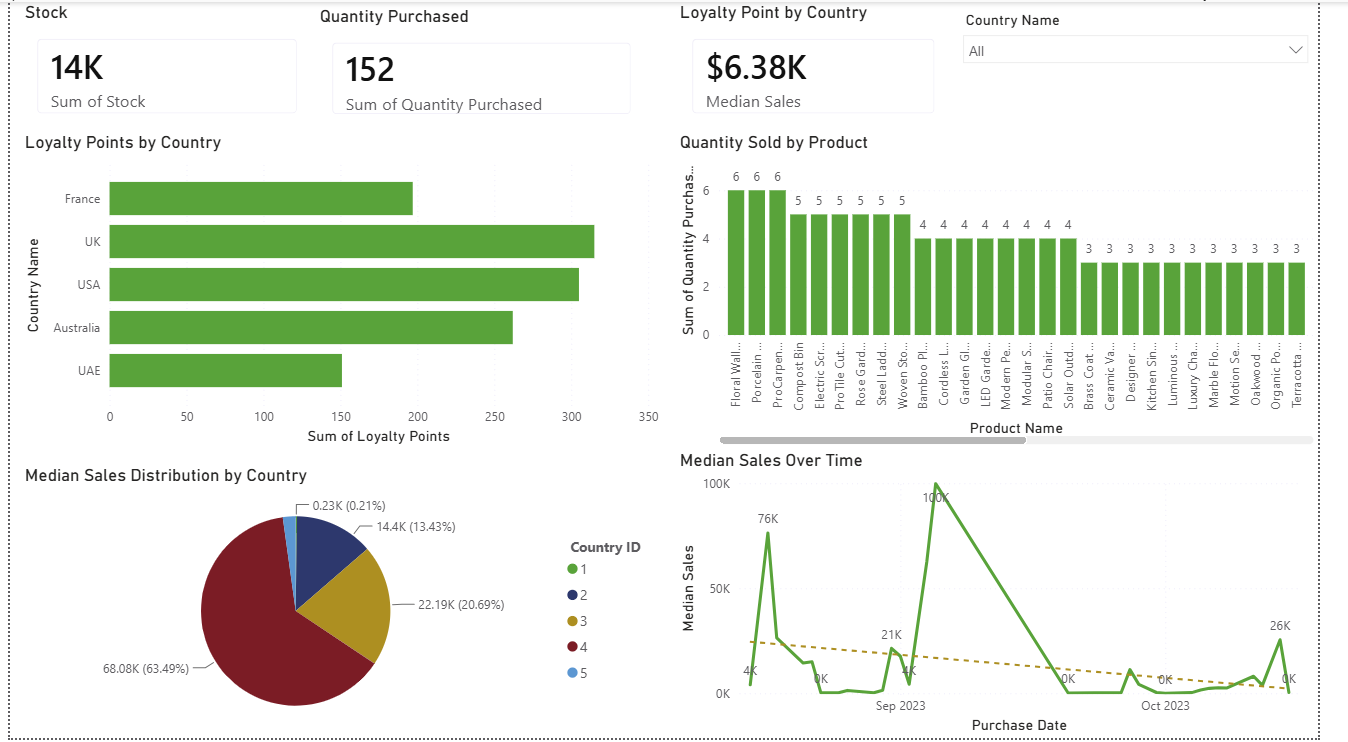

Layout of this report page (visuals, bound fields, positions):
{"tool":"powerbi","page":{"name":"Sales Overview","canvas":[1280,720],"ordinal":0},"visuals":[{"type":"clusteredBarChart","title":"Loyalty Points by Country","fields":{"Category":["Sales in USD.Country Name"],"Y":["Sum(Sales in USD. Loyalty Points)"]},"box":[9.8,127.2,629.8,310.6],"z":0},{"type":"clusteredColumnChart","title":"Quantity Sold by Product ","fields":{"Category":["Sales in USD.Product Name"],"Y":["Sum(Sales in USD.Quantity Purchased)"]},"box":[650.5,127.2,629.8,310.6],"z":1000},{"type":"pieChart","title":"Median Sales Distribution by  Country","fields":{"Category":["Sales in USD. Country ID"],"Y":["Sales in USD.Median Sales"]},"box":[9.8,452.4,629.8,267.8],"z":2000},{"type":"lineChart","title":"Median Sales Over Time","fields":{"Y":["Sales in USD.Median Sales"],"Category":["Purchases. Purchase Date"]},"box":[650.5,437.8,629.8,282.5],"z":3000},{"type":"cardVisual","title":"Stock","fields":{"Data":["Sum(Sales in USD. Stock  )"]},"box":[9.8,0,288.6,127.2],"z":4000},{"type":"cardVisual","title":"Quantity Purchased","fields":{"Data":["Sum(Sales in USD.Quantity Purchased)"]},"box":[298.4,3.7,326.5,123.5],"z":5000},{"type":"cardVisual","title":"Loyalty Point by Country","fields":{"Data":["Sales in USD.Median Sales"]},"box":[650.5,0,271.5,127.2],"z":6000},{"type":"slicer","fields":{"Values":["Sales in USD.Country Name"]},"box":[922,3.7,358.3,123.5],"z":7000}]}

Visuals, with their boxes in screenshot pixels (x1, y1, x2, y2), scaled from the page's 1280x720 canvas onto the 1348x742 screenshot:
"Loyalty Points by Country" clusteredBarChart: region(10, 131, 674, 451)
"Quantity Sold by Product " clusteredColumnChart: region(685, 131, 1347, 451)
"Median Sales Distribution by  Country" pieChart: region(10, 466, 674, 741)
"Median Sales Over Time" lineChart: region(685, 451, 1347, 741)
"Stock" cardVisual: region(10, 0, 314, 131)
"Quantity Purchased" cardVisual: region(314, 4, 658, 131)
"Loyalty Point by Country" cardVisual: region(685, 0, 971, 131)
slicer - Sales in USD.Country Name: region(971, 4, 1347, 131)
